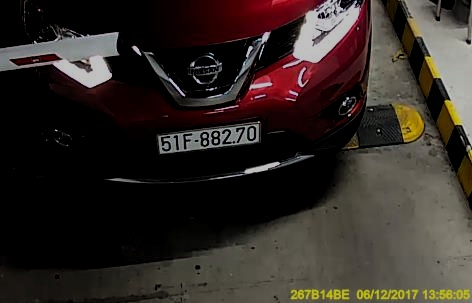plate: (156, 122, 265, 156)
